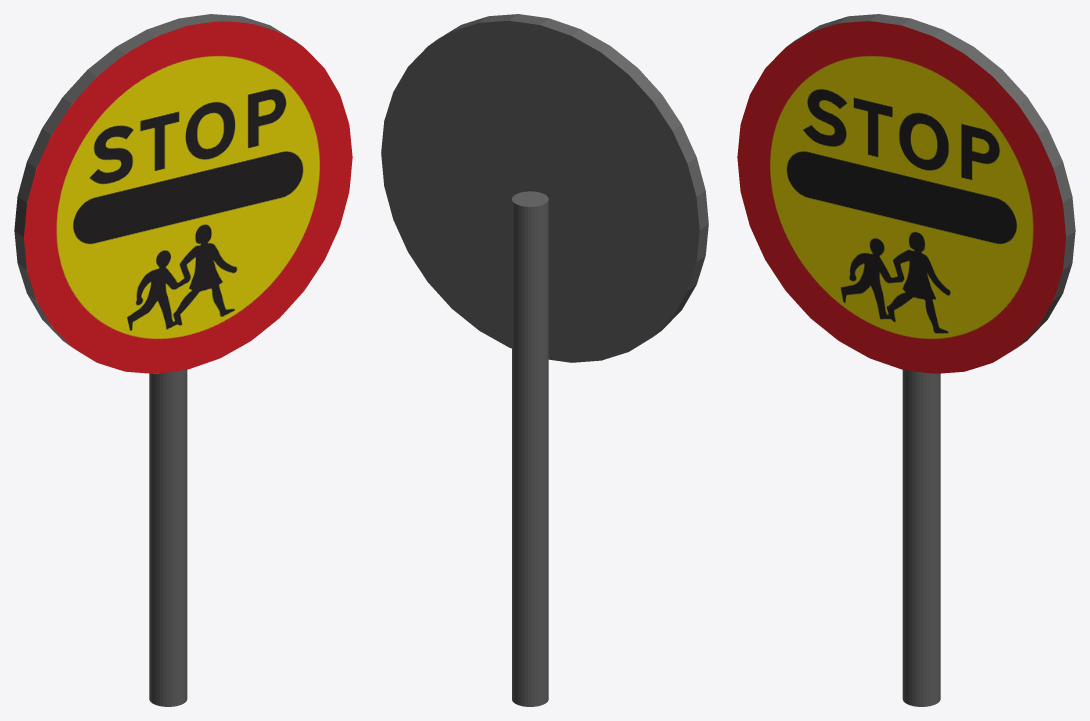
The model's file is SignGivingOrderSchoolCrossingPatrol.obj.
The picture shows the model from 3 angles, left to right: view 1: azimuth 30°, elevation 25°; view 2: azimuth 150°, elevation 25°; view 3: azimuth 330°, elevation 25°; orthographic projection. The views are drawn at different scales.
Parts seen in each view (by area): view 1: Cylinder, Cylinder.001; view 2: Cylinder, Cylinder.001; view 3: Cylinder, Cylinder.001.
Part boxes in pixels (box(x1,y1,x2,y2)): Cylinder: box(14, 14, 352, 373); Cylinder.001: box(149, 369, 187, 706); Cylinder: box(381, 14, 708, 362); Cylinder.001: box(512, 191, 548, 706); Cylinder: box(737, 14, 1075, 373); Cylinder.001: box(902, 369, 940, 706).
Size of the model in its own units: 1 by 2 by 0.155.
3 materials, 1 textured.
